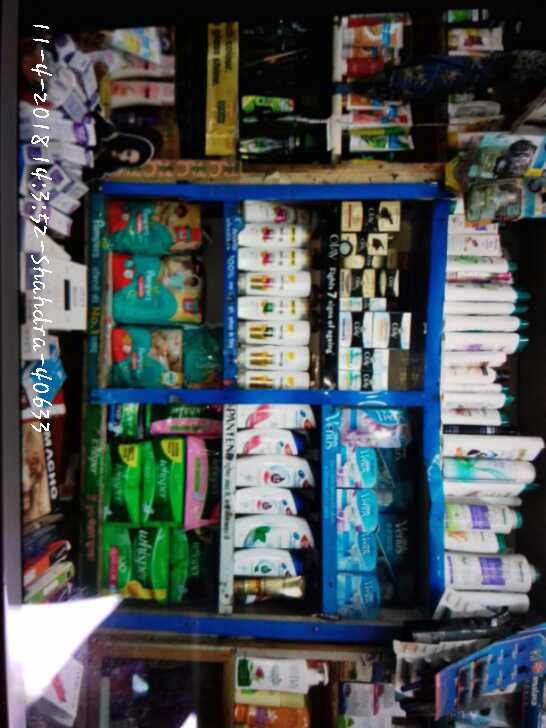venus: (336, 407, 412, 447), (335, 572, 377, 619), (335, 489, 376, 533), (336, 448, 376, 489), (335, 534, 377, 572)
